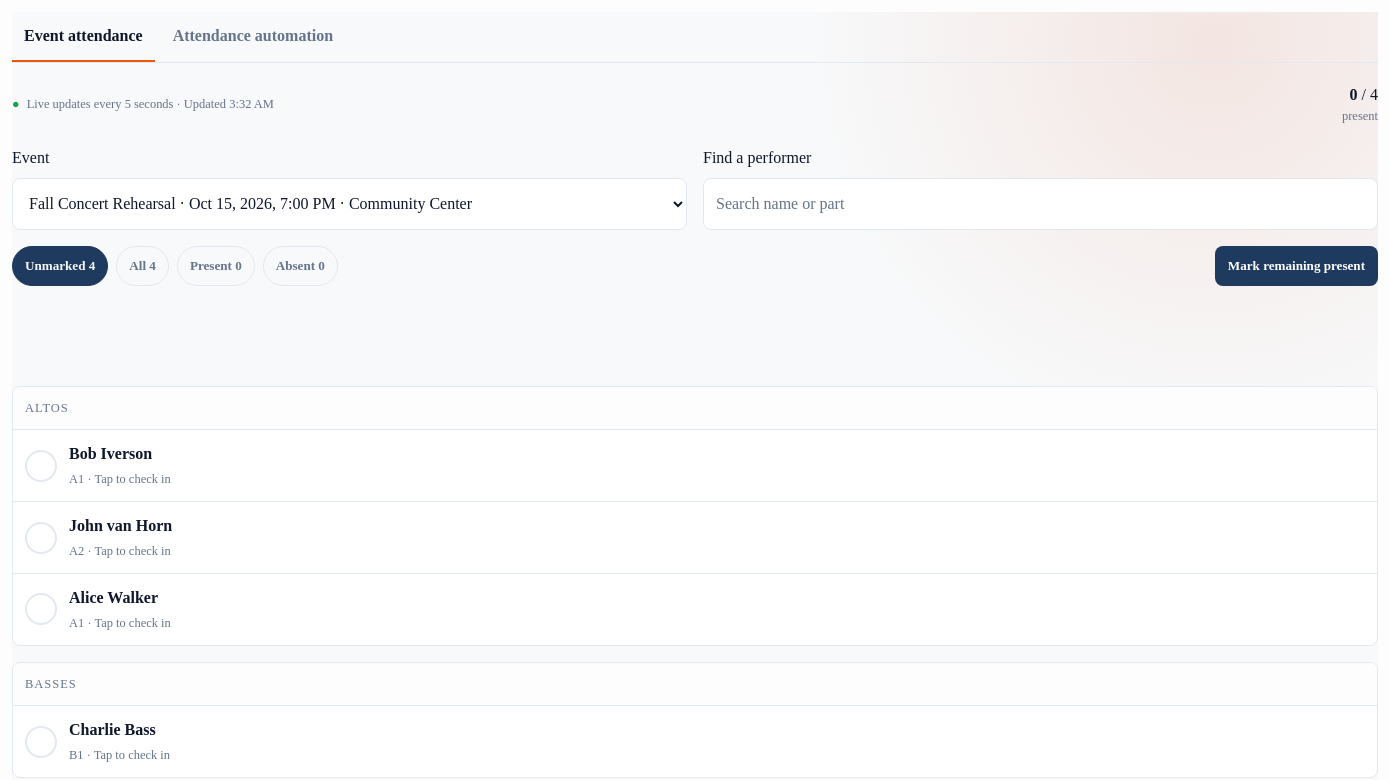
Test: AttendanceManager section grouping and sorting UI › AttendanceManager Undo bar › does not add failed saves to undo history
This screenshot has width=1390, height=780.
Expected: the heading "Altos" is shown, [13, 387, 1377, 430]
Click the button with aria-label "Alice Walker: Tap to check in. Tap to change." at (41, 609), box [13, 574, 1377, 645]
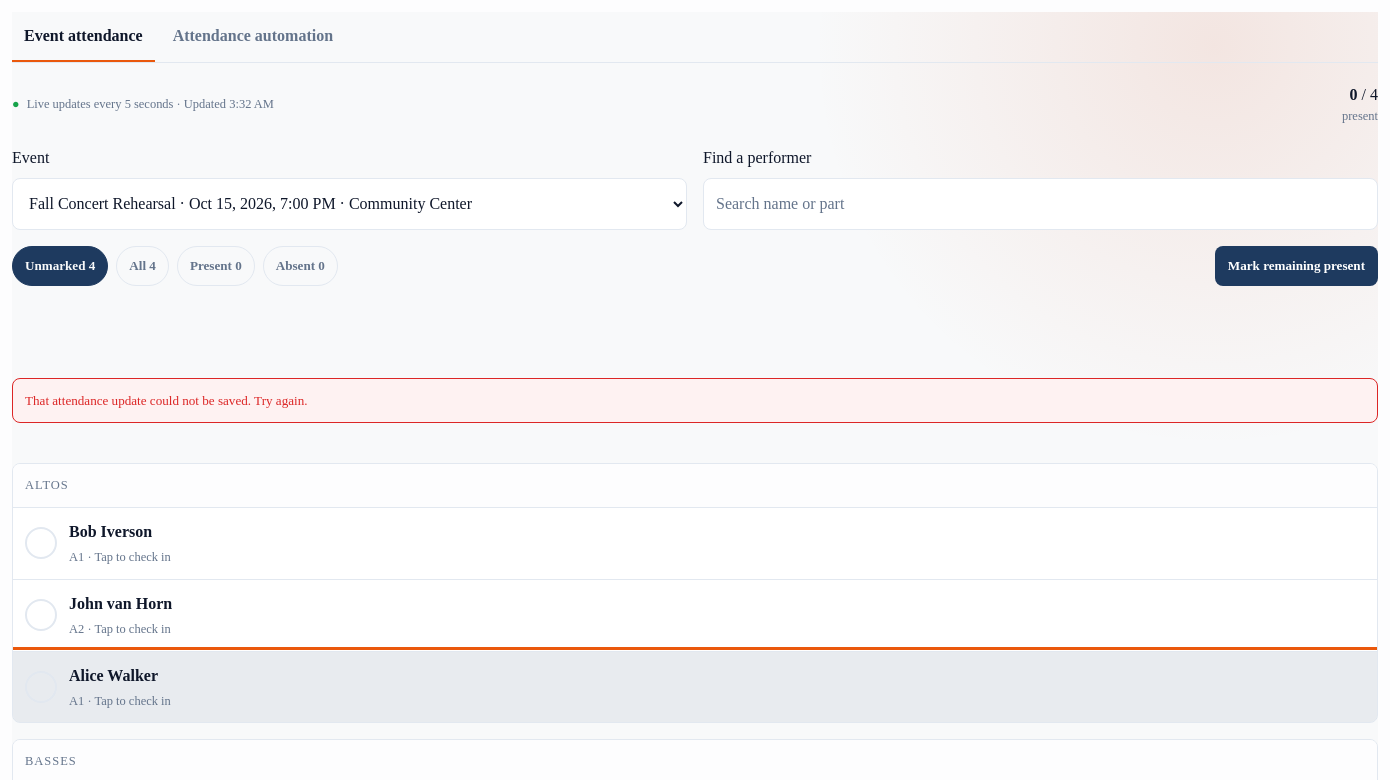
Expected: the text "That attendance update could not be saved. Try again." is shown, [12, 378, 1378, 423]
